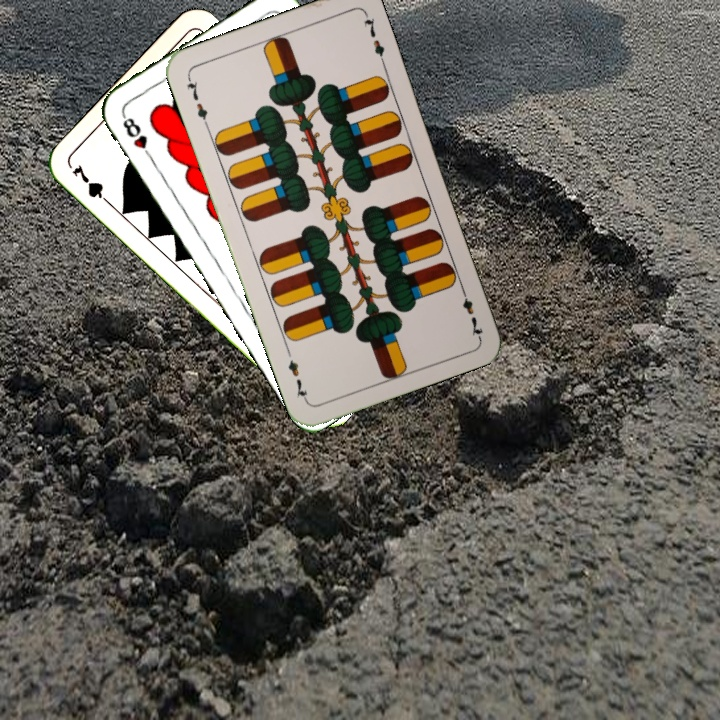E7: (456, 282, 486, 340), (182, 73, 212, 130)
G7: (68, 160, 115, 209)
H8: (118, 110, 156, 163)
